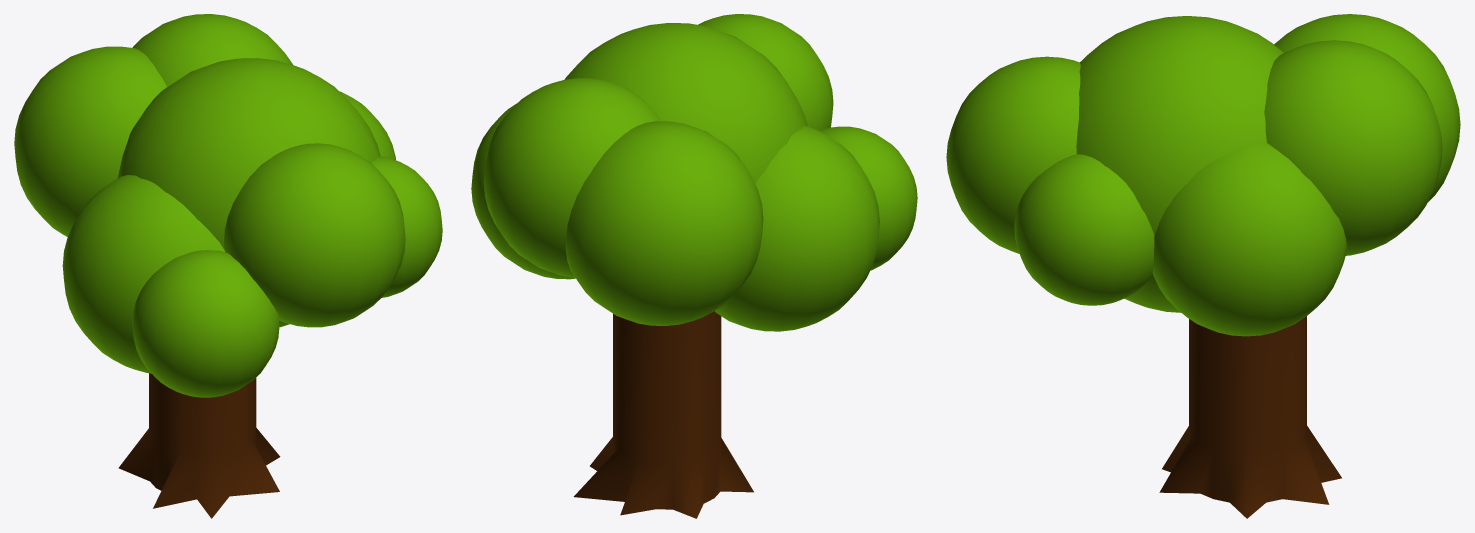
Rendered from TREE.fbx.
3 renders of one model, left to right at view 1: azimuth 30°, elevation 25°; view 2: azimuth 150°, elevation 25°; view 3: azimuth 270°, elevation 25°, orthographic. The views are drawn at different scales.
Parts seen in each view (by area): view 1: pSphere10; view 2: pSphere10; view 3: pSphere10.
Part boxes in pixels (x1,y1,x2,y2): pSphere10: (14,14,442,518); pSphere10: (471,14,917,518); pSphere10: (946,14,1460,518).
Bounding box in the file's own units: 11.15 × 13.21 × 13.19.
